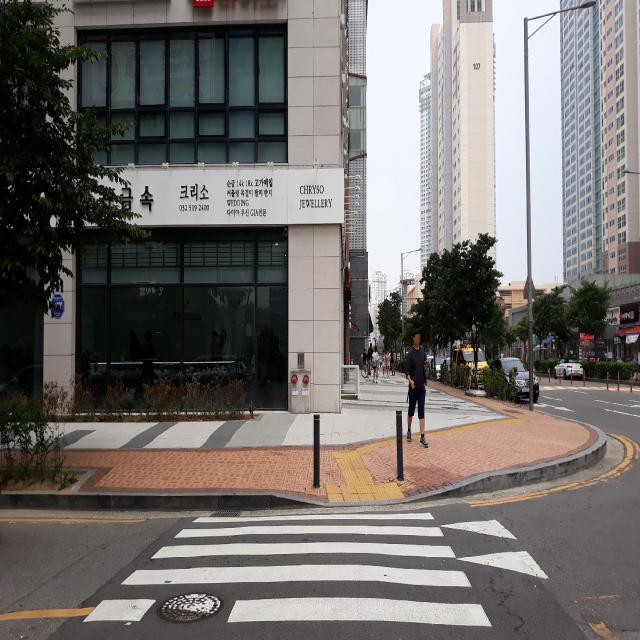횡단보도: (83, 513, 492, 626)
